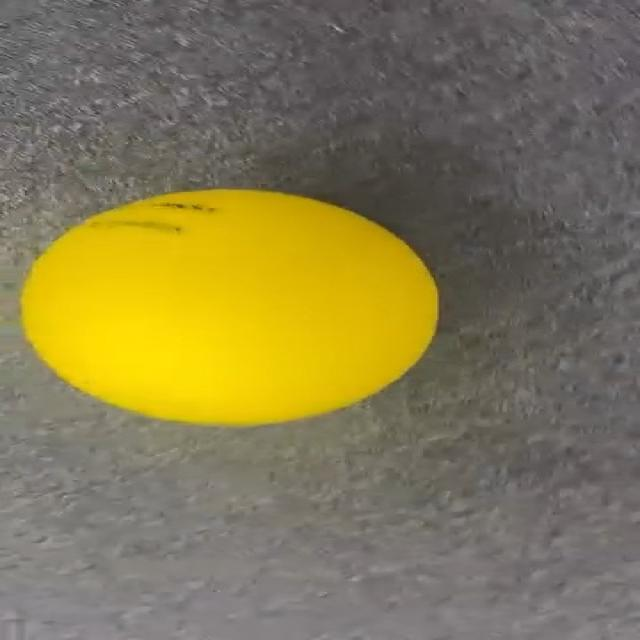Fuels: (23, 189, 436, 426)
